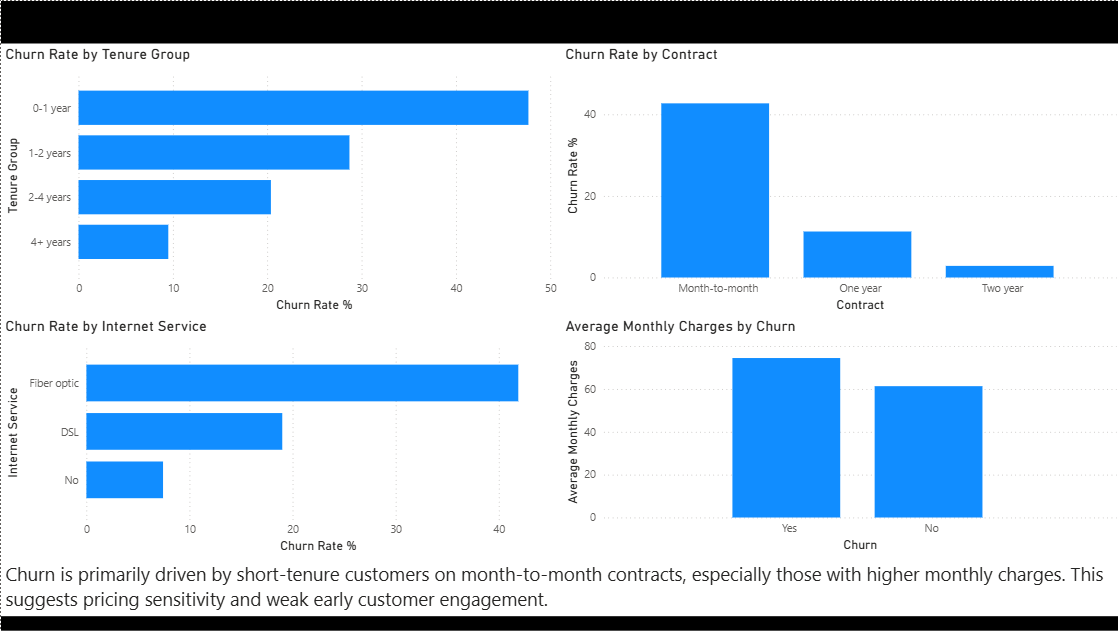

Layout of this report page (visuals, bound fields, positions):
{"tool":"powerbi","page":{"name":"Churn Drivers","canvas":[1280,720],"ordinal":1},"visuals":[{"type":"shape","box":[0,0,1280,48.6],"z":0},{"type":"shape","box":[0,702.9,1280,17.1],"z":1},{"type":"clusteredColumnChart","title":"Churn Rate by Contract","fields":{"Category":["churn_risk_model.Contract"],"Y":["churn_risk_model.Churn Rate %"]},"box":[640,50,640,310],"z":2},{"type":"clusteredBarChart","title":"Churn Rate by Tenure Group","fields":{"Category":["churn_risk_model.Tenure Group"],"Y":["churn_risk_model.Churn Rate %"]},"box":[0,50,640,310],"z":3},{"type":"clusteredColumnChart","title":"Average Monthly Charges by Churn","fields":{"Category":["churn_risk_model.Churn"],"Y":["Avg(churn_risk_model.MonthlyCharges)"]},"box":[640,361.4,640,272.9],"z":4},{"type":"clusteredBarChart","title":"Churn Rate by Internet Service","fields":{"Category":["churn_risk_model.InternetService"],"Y":["churn_risk_model.Churn Rate %"]},"box":[0,361.4,640,274.3],"z":5},{"type":"textbox","box":[0,634.3,1280,68.6],"z":6}]}

Visuals, with their boxes in screenshot pixels (x1, y1, x2, y2), scaled from the page's 1280x720 canvas onto the 1118x631 screenshot:
shape: [x1=0, y1=0, x2=1117, y2=43]
shape: [x1=0, y1=616, x2=1117, y2=630]
"Churn Rate by Contract" clusteredColumnChart: [x1=559, y1=44, x2=1117, y2=316]
"Churn Rate by Tenure Group" clusteredBarChart: [x1=0, y1=44, x2=559, y2=316]
"Average Monthly Charges by Churn" clusteredColumnChart: [x1=559, y1=317, x2=1117, y2=556]
"Churn Rate by Internet Service" clusteredBarChart: [x1=0, y1=317, x2=559, y2=557]
textbox: [x1=0, y1=556, x2=1117, y2=616]
